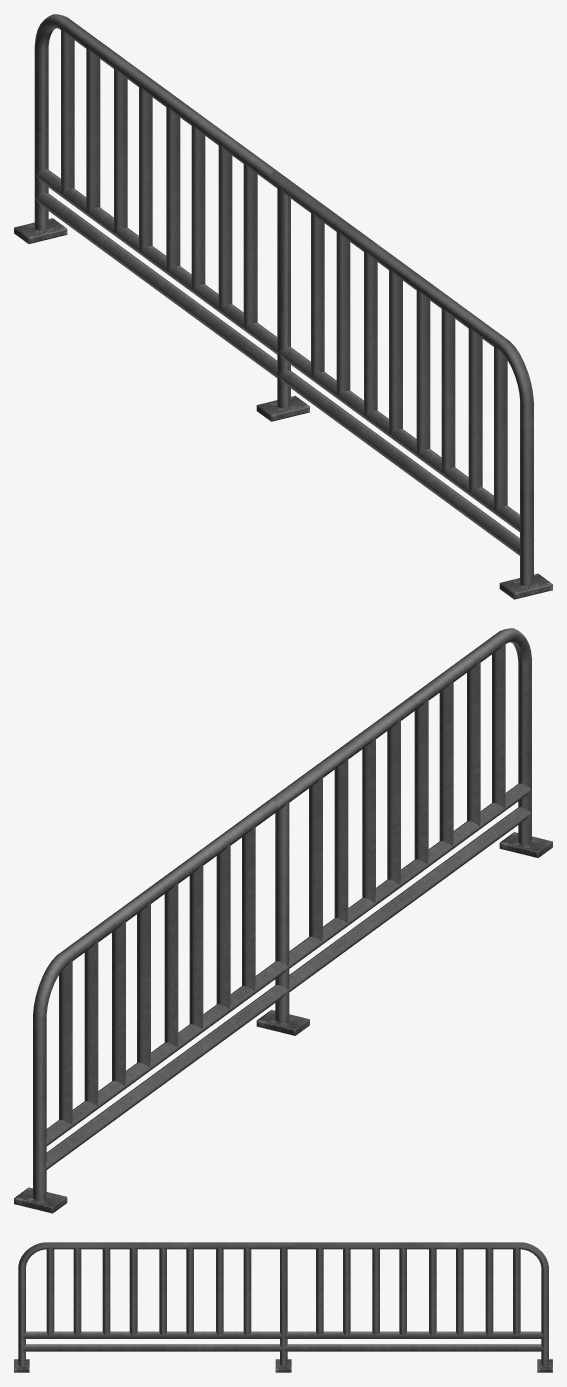
File: SM_BarrierLarge.FBX
The picture shows the model from 3 angles, top to bottom: view 1: azimuth 30°, elevation 25°; view 2: azimuth 150°, elevation 25°; view 3: azimuth 270°, elevation 25°; orthographic projection. The views are drawn at different scales.
Visible parts, largest first — view 1: SM_BarrierLarge; view 2: SM_BarrierLarge; view 3: SM_BarrierLarge.
Boxes of the visible parts, x1,y1,x2,y2 form: SM_BarrierLarge: (14,14,552,599); SM_BarrierLarge: (14,628,552,1213); SM_BarrierLarge: (14,1242,552,1372).
Bounding box in the file's own units: 26.85 × 600 × 154.
